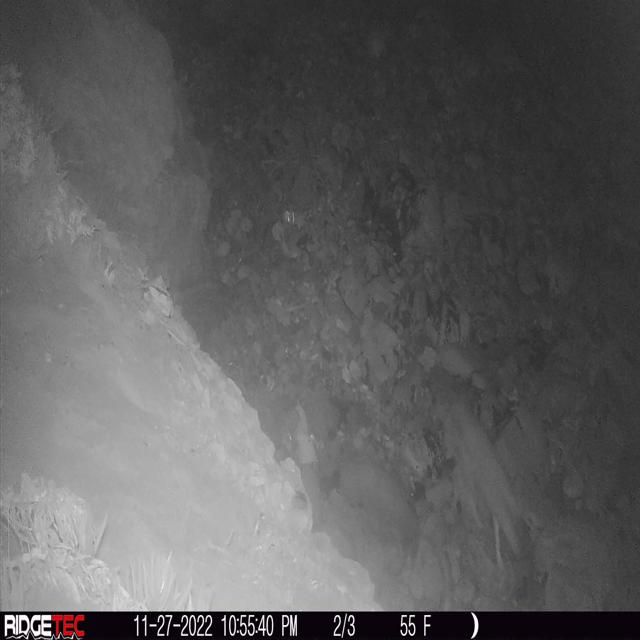coyote: (447, 407, 519, 558)
